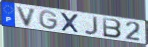2: (125, 22, 142, 42)
B: (102, 17, 123, 39)
G: (38, 10, 59, 31)
J: (83, 16, 99, 36)
V: (16, 6, 38, 28)
X: (59, 12, 81, 35)
